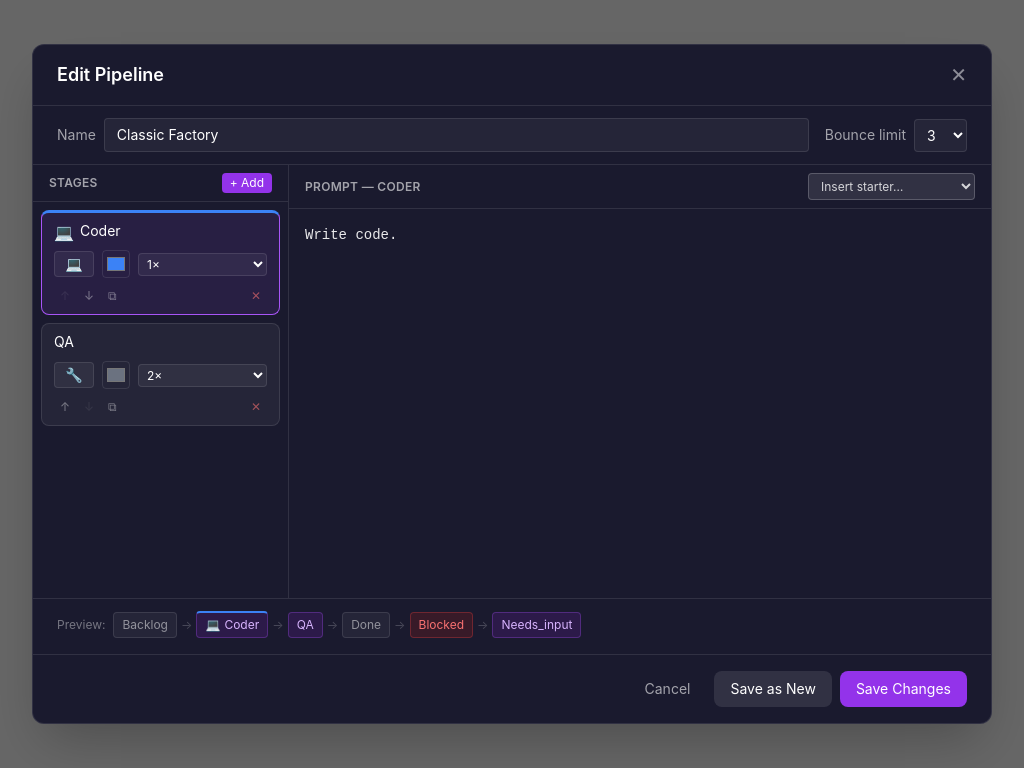
stage CRUD › adds a new stage when clicking Add
Click the button with aria-label "add stage" at (247, 183), box [222,173,272,193]
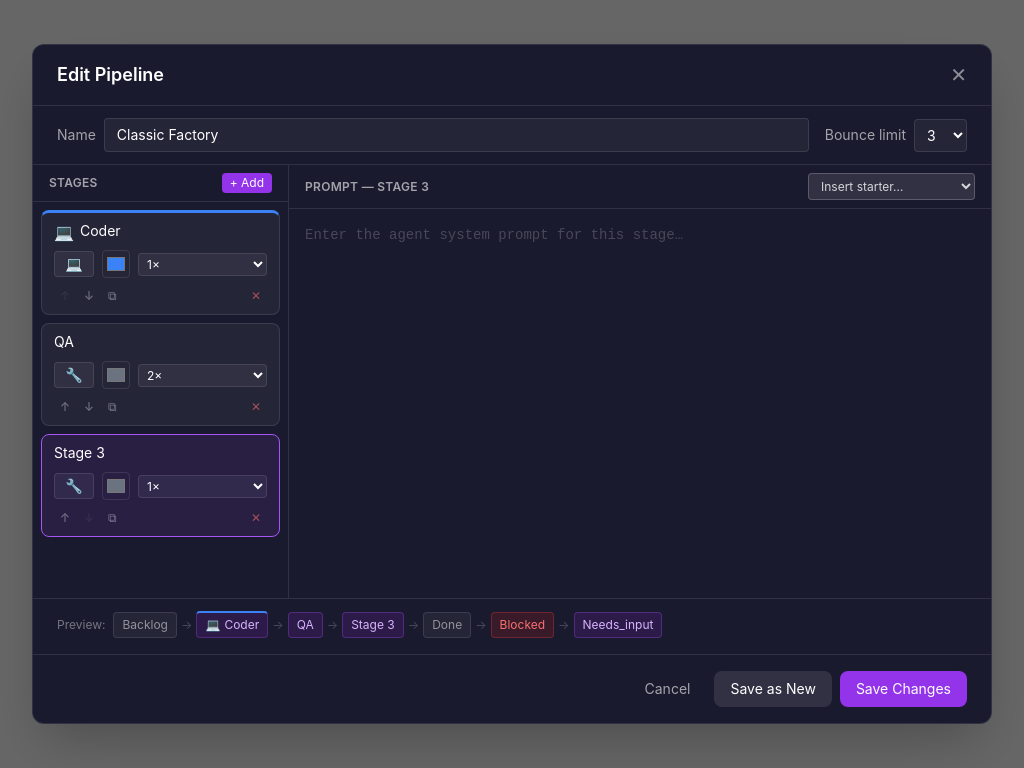
expect the number of fields named "Stage name" is 3: met, box [80,221,267,242]; [54,332,267,353]; [54,443,267,464]
